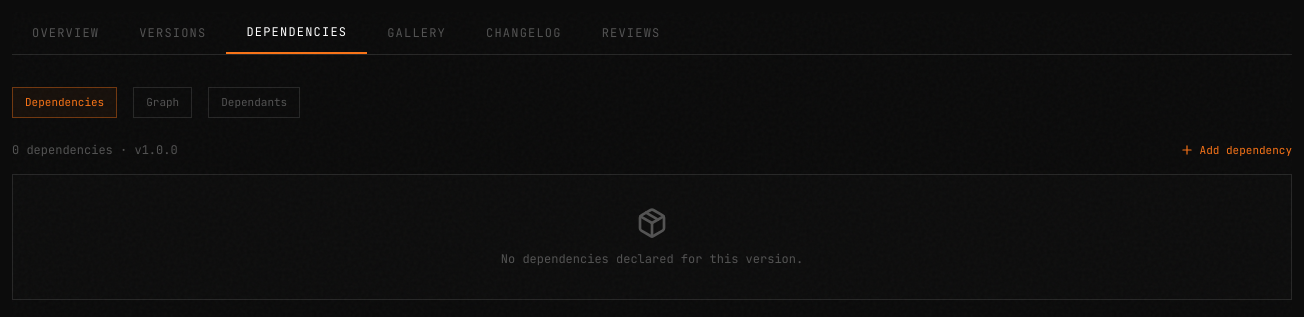
it: PluginContent › shows graph tree with nodes
The width and height of the screenshot is (1304, 317).
Click the button "Graph".
click(163, 102)  # box [133,87,192,118]
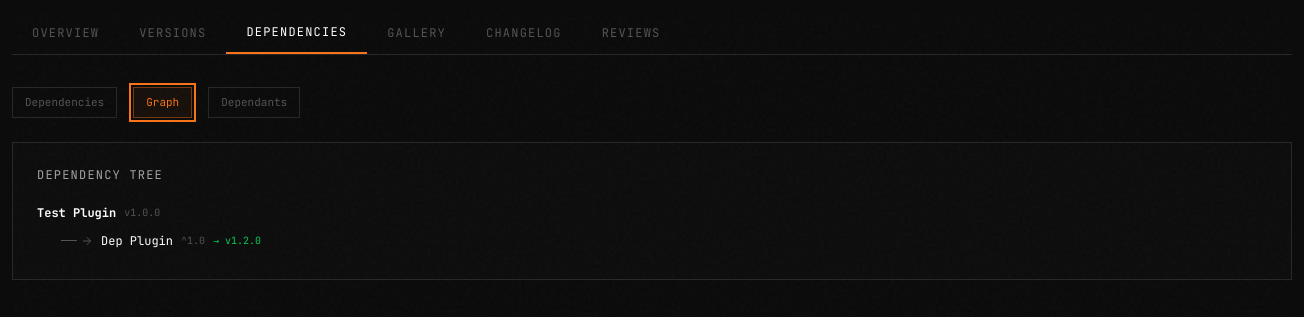
Result: the text "Dependency Tree" is shown at [37,166,163,182]
Result: the text "Dep Plugin" is shown at [101,232,173,248]
